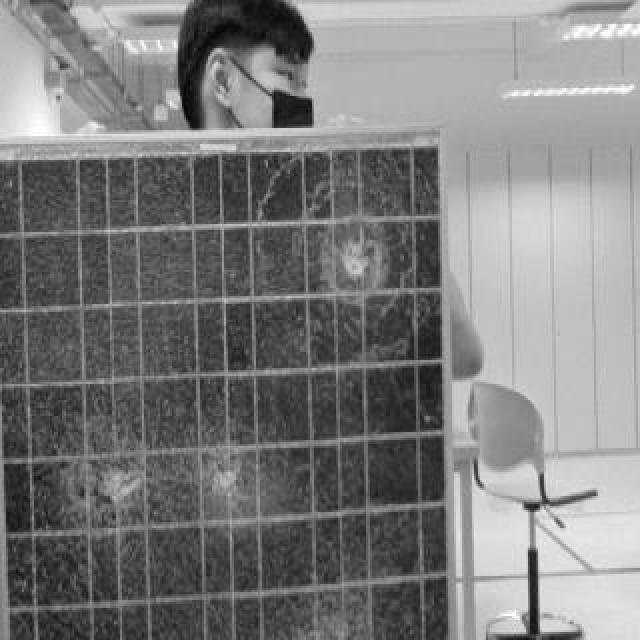Physical-damage: (301, 193, 431, 317), (193, 435, 275, 513), (66, 458, 155, 520), (296, 604, 383, 640)
